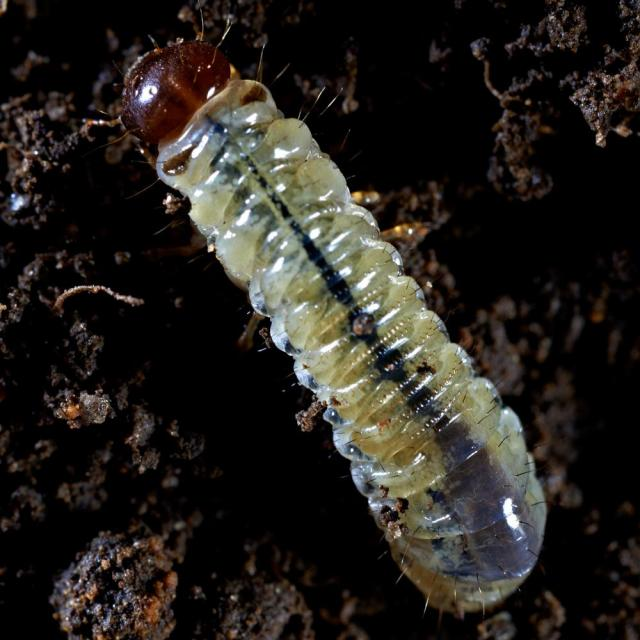Grub-Adult-: (90, 20, 577, 618)
